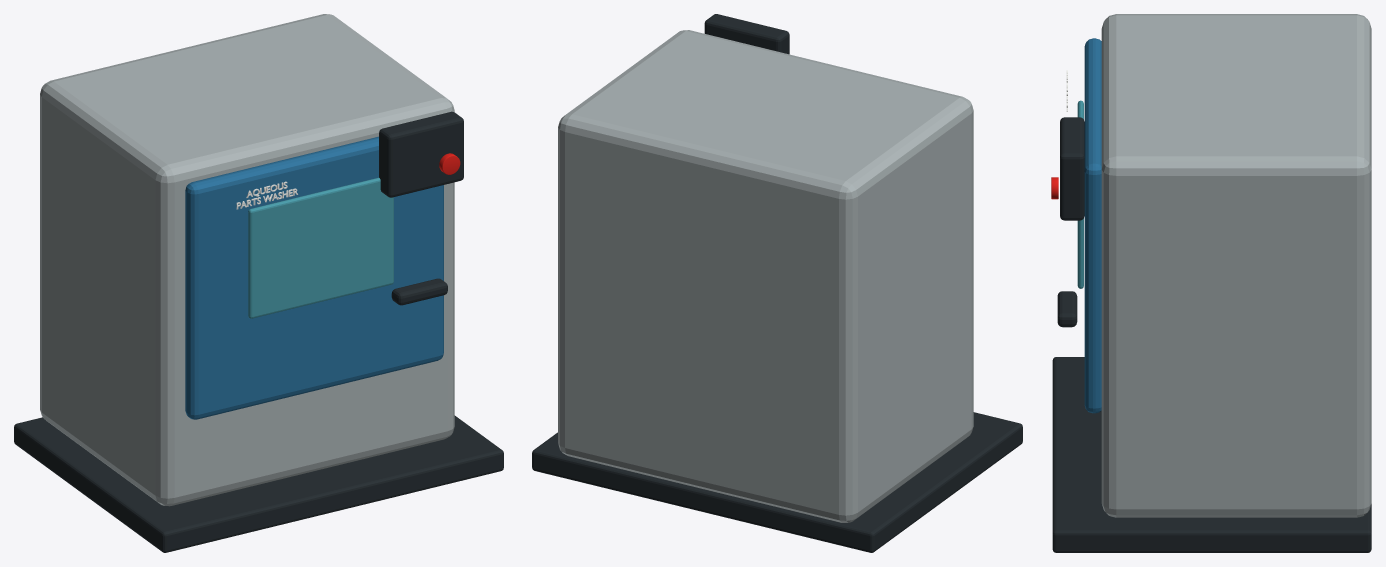
Rendered from aqueous_parts_washer.glb.
3 views of the same model, side by side, from view 1: azimuth 30°, elevation 25°; view 2: azimuth 150°, elevation 25°; view 3: azimuth 270°, elevation 25° (orthographic). The views are drawn at different scales.
Visible parts, largest first — view 1: WASH_CABINET, KIN_FRONT_DOOR, MACHINE_BASE, VIEW_WINDOW, CONTROL_PANEL, DOOR_HANDLE, WASHER_LABEL; view 2: WASH_CABINET, MACHINE_BASE, CONTROL_PANEL; view 3: WASH_CABINET, MACHINE_BASE, KIN_FRONT_DOOR, CONTROL_PANEL, DOOR_HANDLE, VIEW_WINDOW.
Part boxes in pixels (x1,y1,x2,y2): WASH_CABINET: (40,14,454,506); KIN_FRONT_DOOR: (185,136,443,419); MACHINE_BASE: (14,415,503,552); VIEW_WINDOW: (248,177,393,318); CONTROL_PANEL: (379,111,463,197); DOOR_HANDLE: (391,278,447,305); WASHER_LABEL: (236,181,297,209); WASH_CABINET: (558,30,973,522); MACHINE_BASE: (532,412,1022,552); CONTROL_PANEL: (704,14,789,54); WASH_CABINET: (1101,14,1371,517); MACHINE_BASE: (1052,357,1371,552); KIN_FRONT_DOOR: (1084,38,1101,413); CONTROL_PANEL: (1060,117,1084,220); DOOR_HANDLE: (1057,291,1077,327); VIEW_WINDOW: (1077,100,1083,288).
Size of the model in its own units: 1.7 by 1.71 by 1.3.
